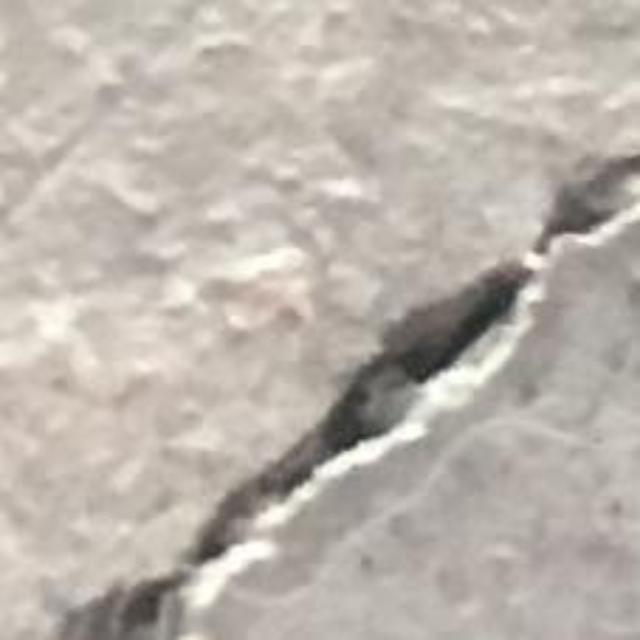crack: (63, 156, 639, 639)
